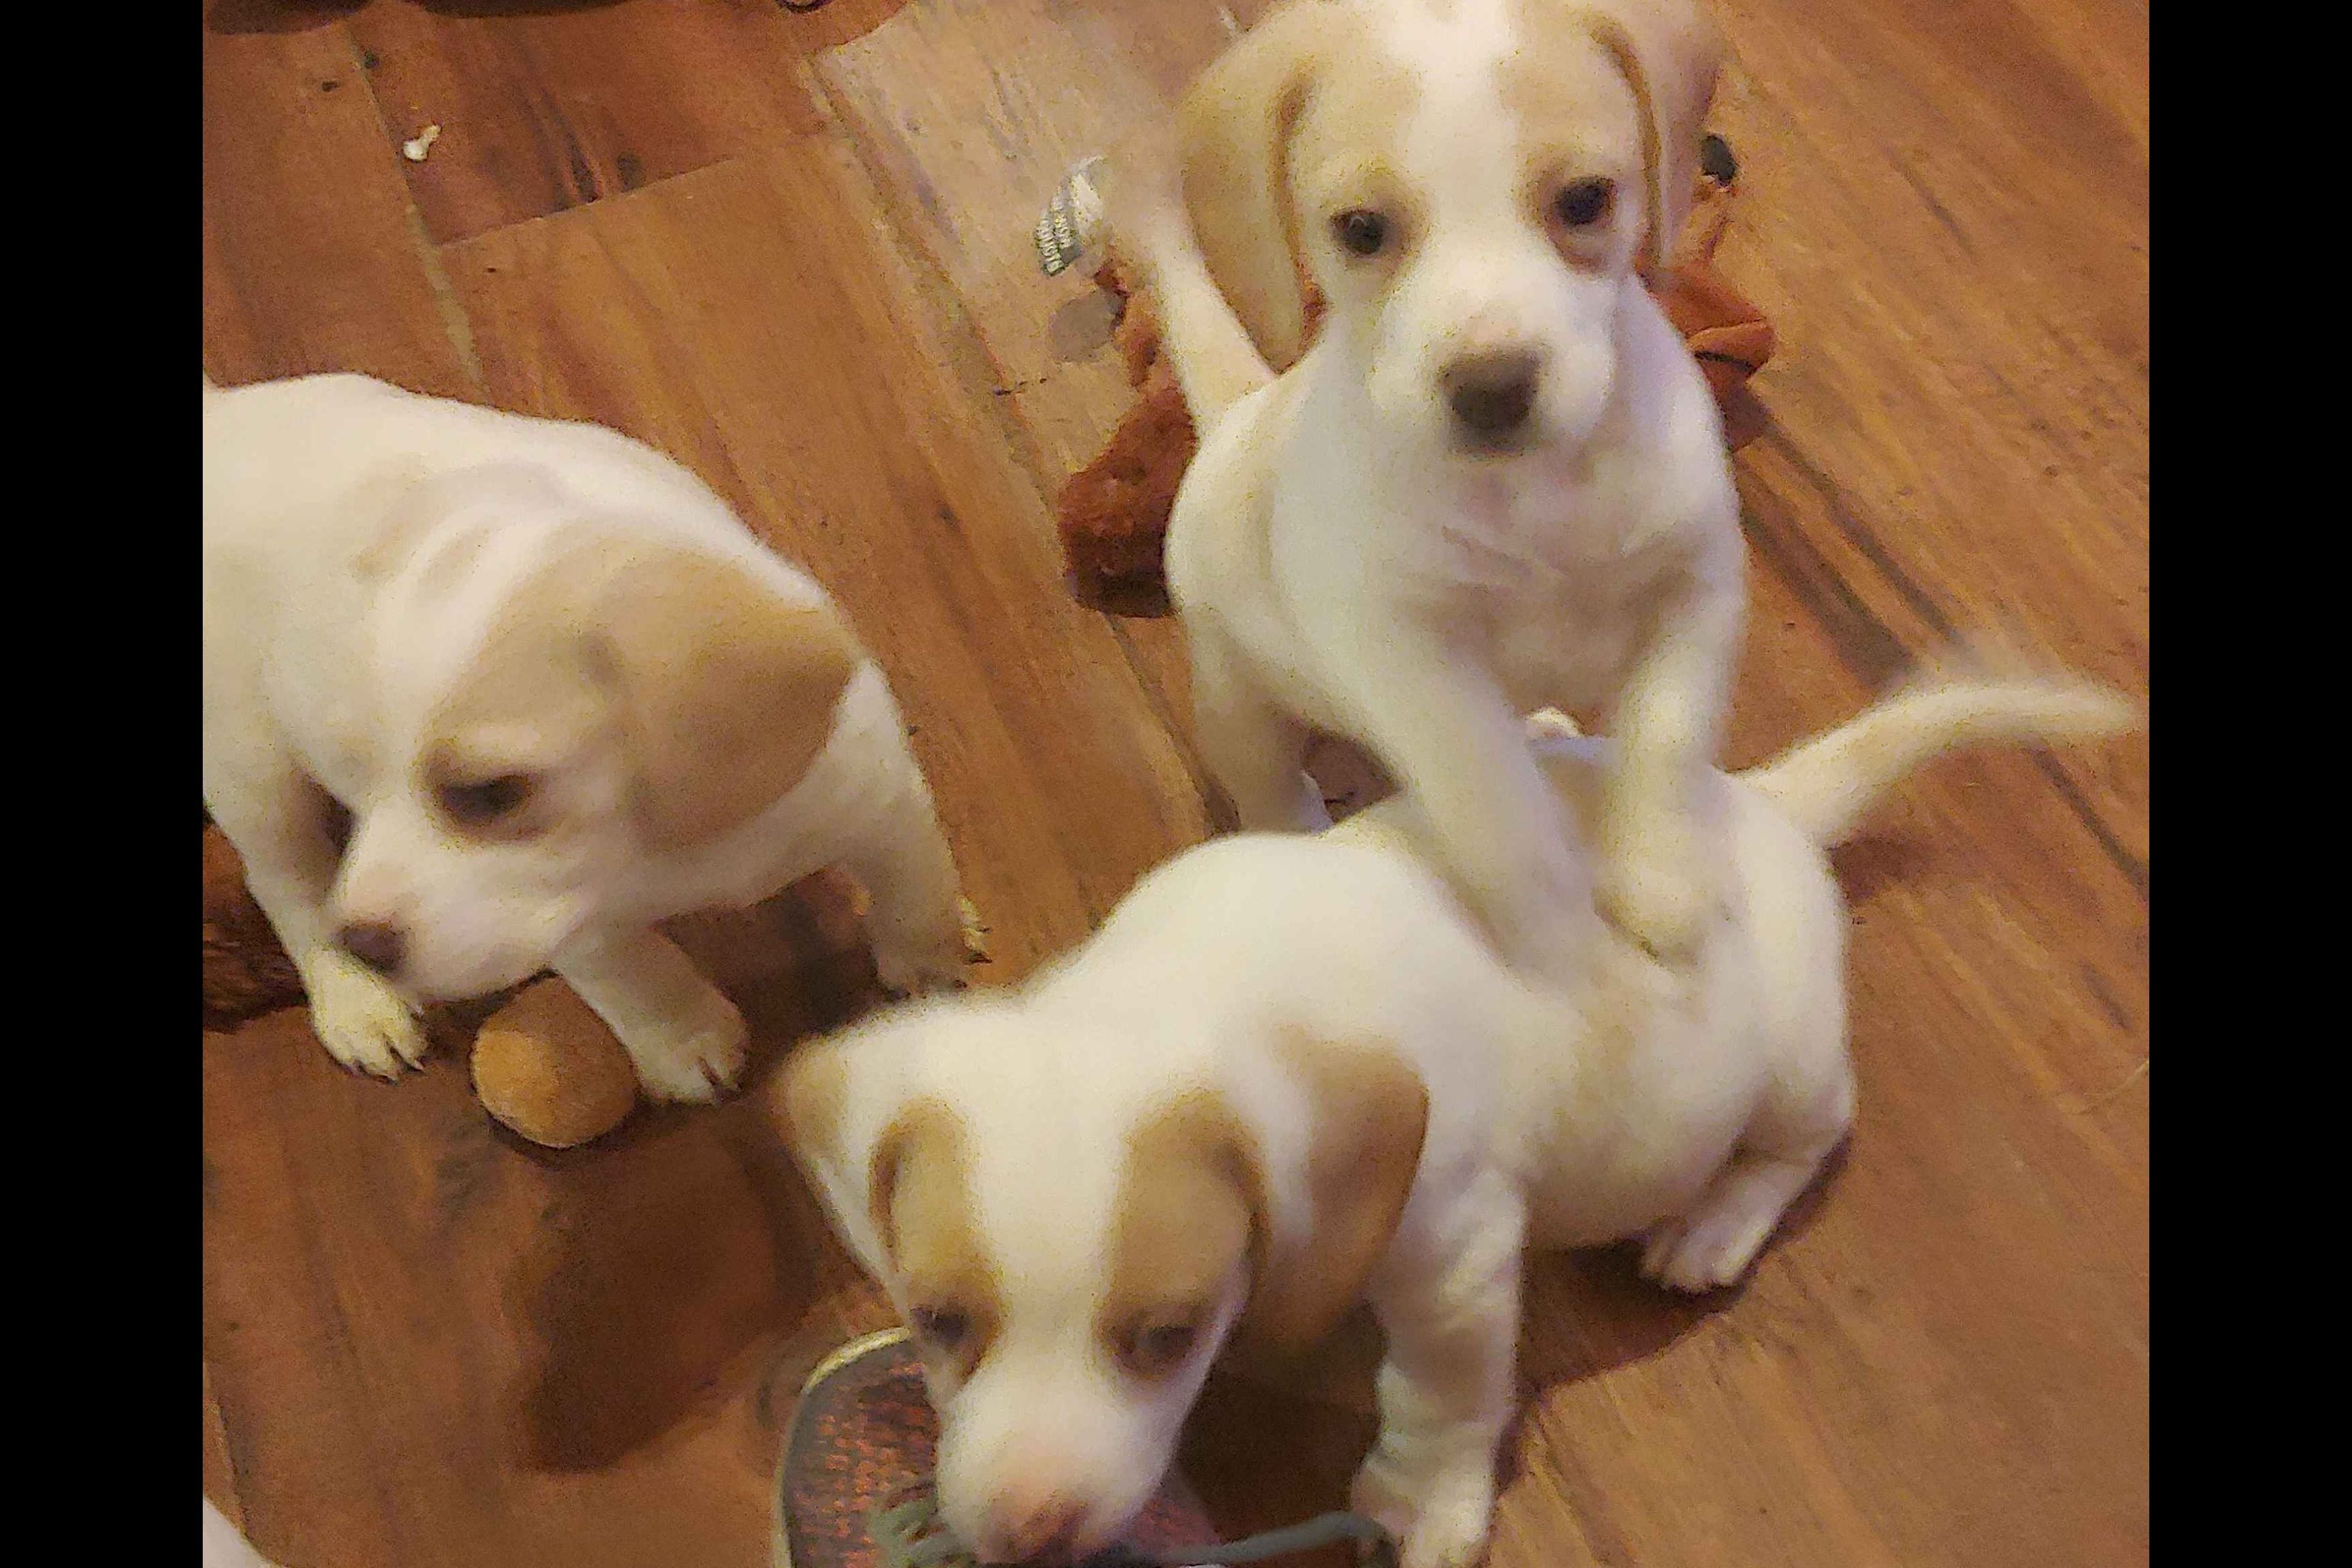dog: (803, 642, 2189, 1543), (1040, 12, 1897, 947), (161, 350, 1019, 1162)
